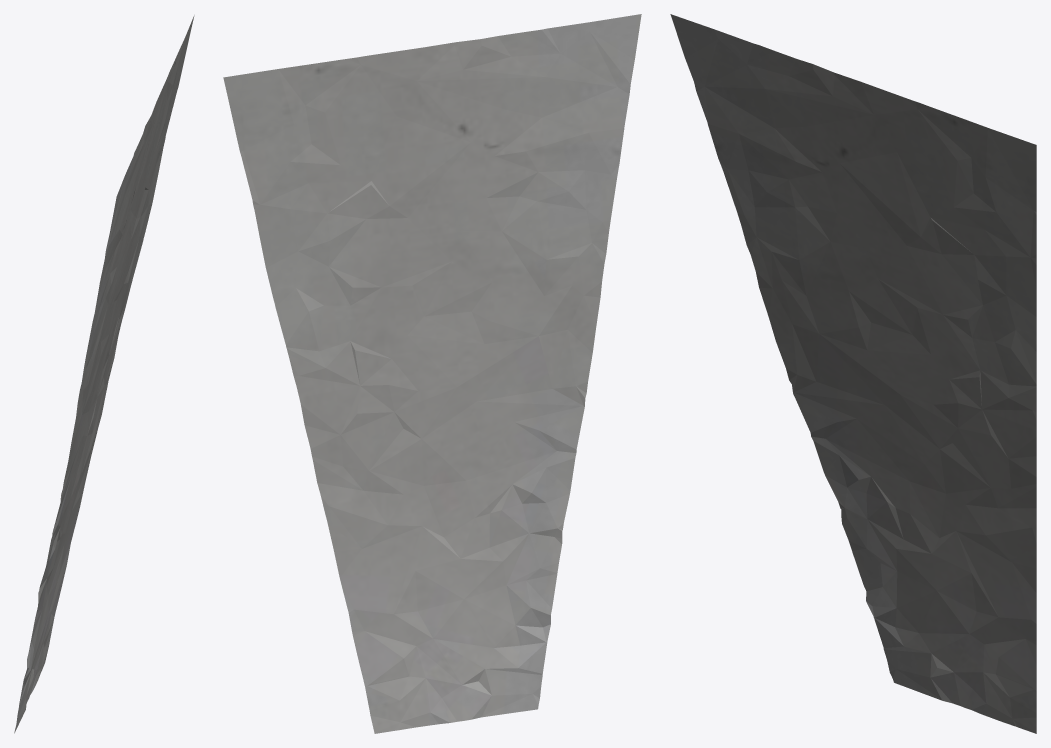
3 renders of one model, left to right at view 1: azimuth 30°, elevation 25°; view 2: azimuth 150°, elevation 25°; view 3: azimuth 270°, elevation 25°, orthographic. The views are drawn at different scales.
Bounding box in the file's own units: 0.7034 × 1.67 × 0.8311.
Materials: 1 (1 with a texture image).
